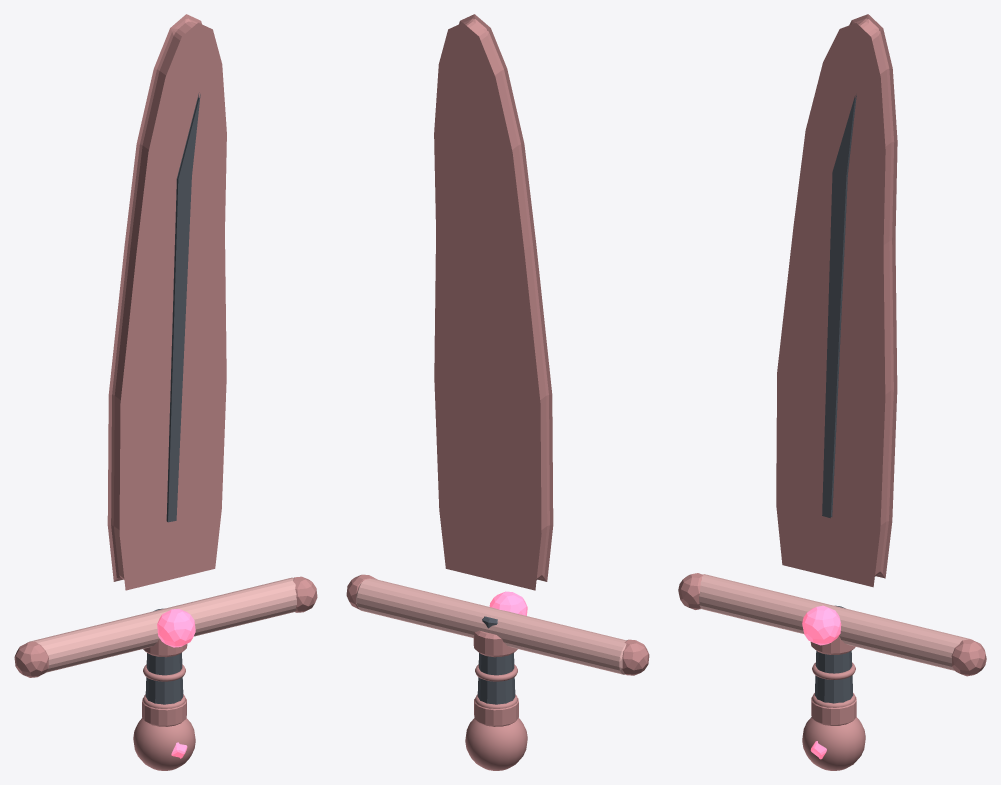
The model's file is warrior-sword-02-obsidian.glb.
3 views of the same model, side by side, from view 1: azimuth 30°, elevation 25°; view 2: azimuth 150°, elevation 25°; view 3: azimuth 330°, elevation 25° (orthographic).
Parts seen in each view (by area): view 1: warrior-sword-02-obsidian_ForgedBlade, warrior-sword-02-obsidian_Crossguard, warrior-sword-02-obsidian_ColoredFuller, warrior-sword-02-obsidian_Pommel, warrior-sword-02-obsidian_LeatherGrip, warrior-sword-02-obsidian_GuardGem, warrior-sword-02-obsidian_GuardEnd_-1, warrior-sword-02-obsidian_LowerFerrule, warrior-sword-02-obsidian_GuardEnd_1; view 2: warrior-sword-02-obsidian_ForgedBlade, warrior-sword-02-obsidian_Crossguard, warrior-sword-02-obsidian_Pommel, warrior-sword-02-obsidian_LeatherGrip, warrior-sword-02-obsidian_LowerFerrule, warrior-sword-02-obsidian_GuardEnd_-1, warrior-sword-02-obsidian_UpperFerrule, warrior-sword-02-obsidian_GuardGem; view 3: warrior-sword-02-obsidian_ForgedBlade, warrior-sword-02-obsidian_Crossguard, warrior-sword-02-obsidian_ColoredFuller, warrior-sword-02-obsidian_Pommel, warrior-sword-02-obsidian_LeatherGrip, warrior-sword-02-obsidian_GuardGem, warrior-sword-02-obsidian_GuardEnd_1, warrior-sword-02-obsidian_LowerFerrule, warrior-sword-02-obsidian_GuardEnd_-1.
Part boxes in pixels (x1,y1,x2,y2): warrior-sword-02-obsidian_ForgedBlade: (107,14,226,590); warrior-sword-02-obsidian_Crossguard: (28,577,296,672); warrior-sword-02-obsidian_ColoredFuller: (166,92,200,522); warrior-sword-02-obsidian_Pommel: (133,718,195,770); warrior-sword-02-obsidian_LeatherGrip: (145,608,183,704); warrior-sword-02-obsidian_GuardGem: (157,608,195,647); warrior-sword-02-obsidian_GuardEnd_-1: (14,641,48,677); warrior-sword-02-obsidian_LowerFerrule: (142,698,186,726); warrior-sword-02-obsidian_GuardEnd_1: (293,576,317,612); warrior-sword-02-obsidian_ForgedBlade: (434,14,553,590); warrior-sword-02-obsidian_Crossguard: (356,578,626,674); warrior-sword-02-obsidian_Pommel: (465,718,527,770); warrior-sword-02-obsidian_LeatherGrip: (477,616,515,704); warrior-sword-02-obsidian_LowerFerrule: (474,698,518,726); warrior-sword-02-obsidian_GuardEnd_-1: (622,639,649,675); warrior-sword-02-obsidian_UpperFerrule: (473,630,517,657); warrior-sword-02-obsidian_GuardGem: (489,591,527,615); warrior-sword-02-obsidian_ForgedBlade: (776,14,897,587); warrior-sword-02-obsidian_Crossguard: (699,574,973,670); warrior-sword-02-obsidian_ColoredFuller: (822,95,856,518); warrior-sword-02-obsidian_Pommel: (802,717,865,770); warrior-sword-02-obsidian_LeatherGrip: (814,605,853,703); warrior-sword-02-obsidian_GuardGem: (802,605,841,645); warrior-sword-02-obsidian_GuardEnd_1: (951,639,986,676); warrior-sword-02-obsidian_LowerFerrule: (811,696,856,725); warrior-sword-02-obsidian_GuardEnd_-1: (678,573,703,609).
Bounding box in the file's own units: 0.7015 × 1.67 × 0.15.
